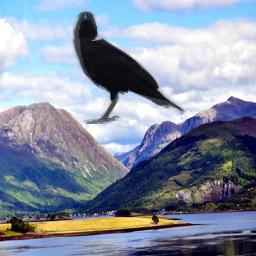Crow: (71, 10, 185, 124)
